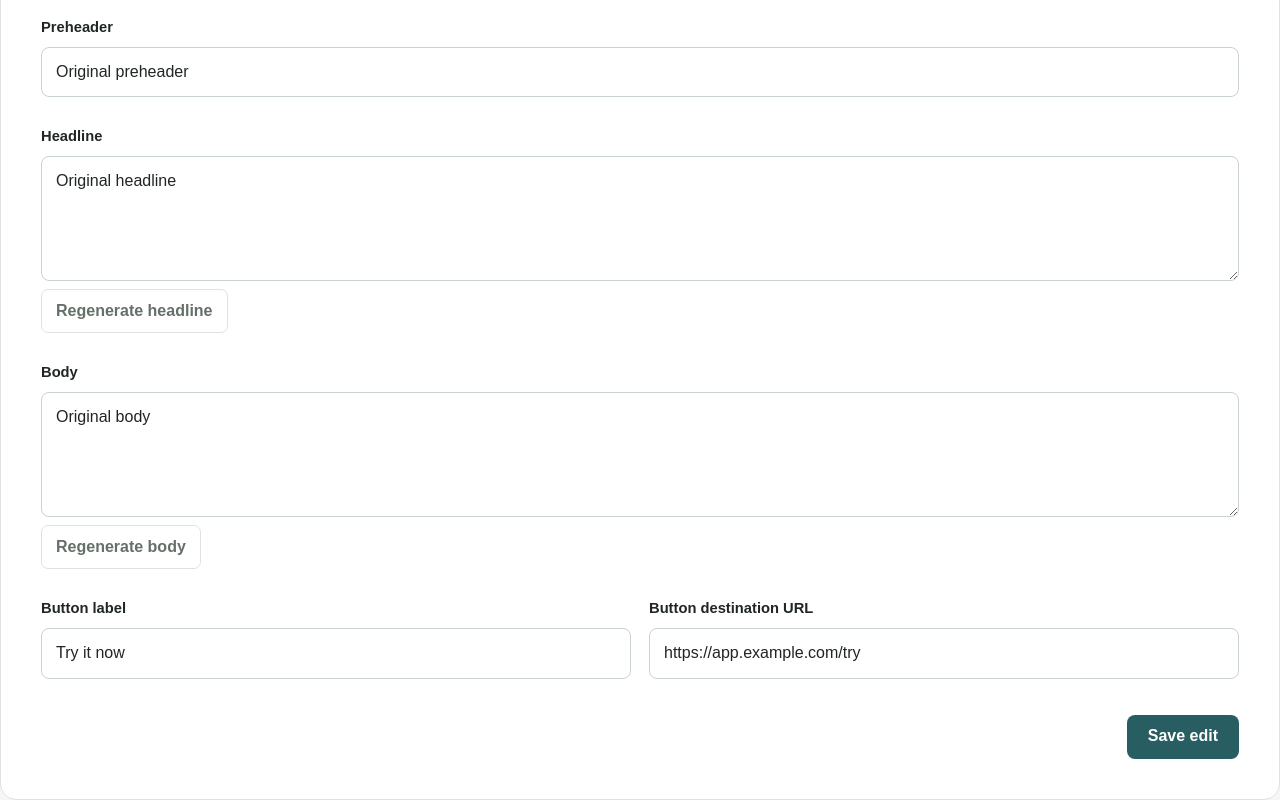
Test: EditDraftPanel › shows a regenerate error without navigating on failure
The width and height of the screenshot is (1280, 800).
(page scrolled)
Click the button "Regenerate body" at (121, 547), box [41,525,201,569]
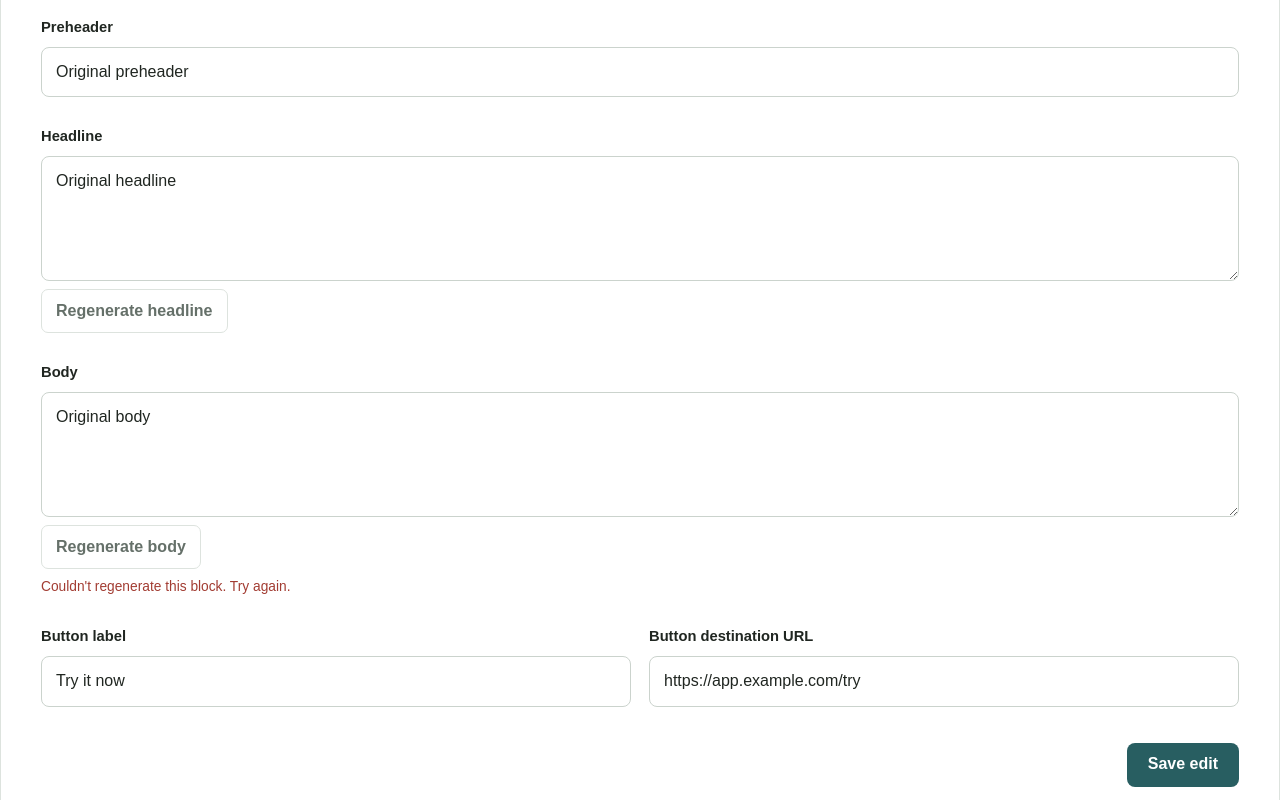
Check: the text "Couldn't regenerate this block. Try again." is shown, box [41,579,290,594]
